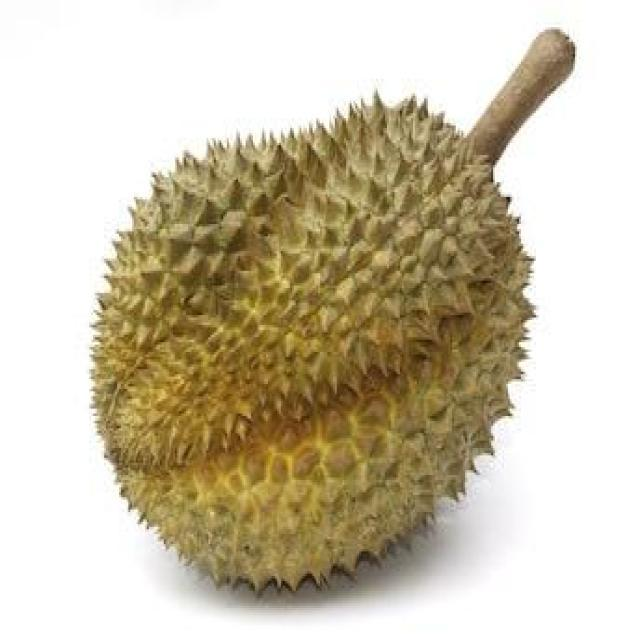mature: (92, 96, 532, 590)
